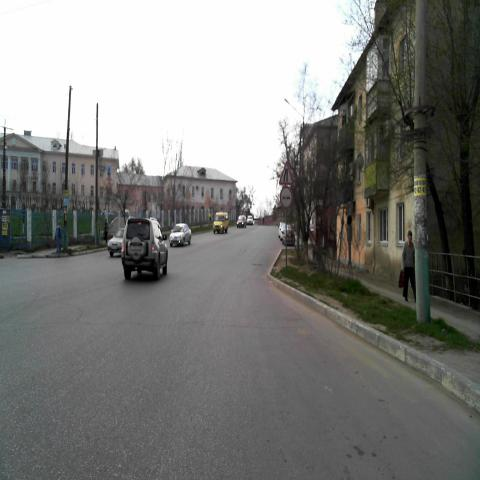1_20_3: (278, 161, 292, 186)
